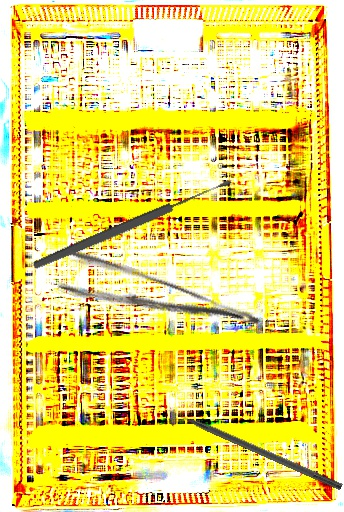Dressing Forceps: (56, 245, 263, 360)
Hook Surgical: (165, 404, 344, 491)
Surgical Spoon: (30, 176, 235, 272)
